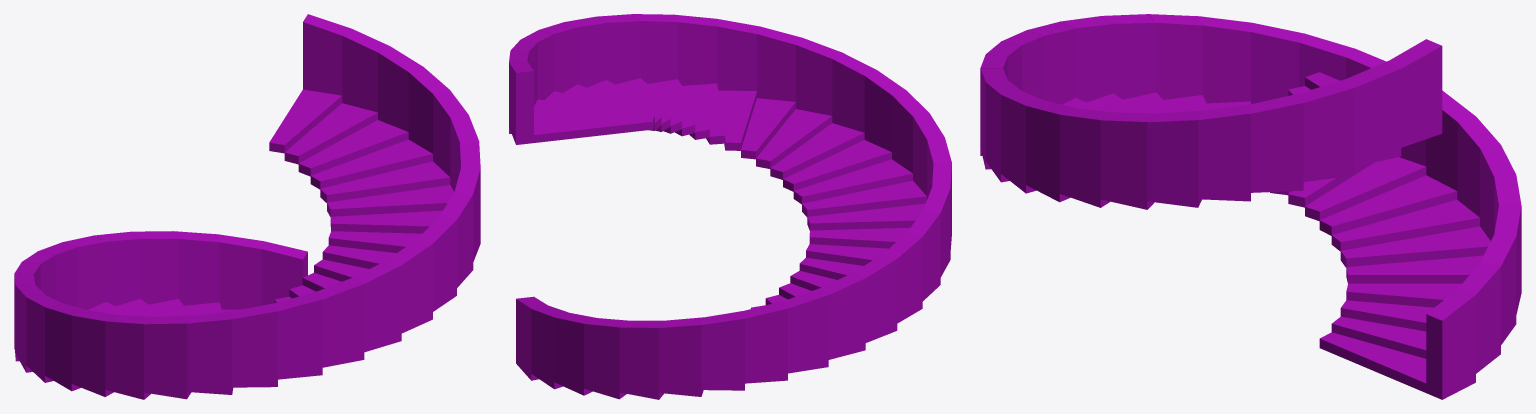
The model's file is Stairs.glb.
The picture shows the model from 3 angles, left to right: view 1: azimuth 30°, elevation 25°; view 2: azimuth 150°, elevation 25°; view 3: azimuth 270°, elevation 25°; orthographic projection. The views are drawn at different scales.
Visible parts, largest first — view 1: Circle; view 2: Circle; view 3: Circle.
Part boxes in pixels (left/top/right/bottom): Circle: left=14, top=14, right=480, bottom=399; Circle: left=509, top=14, right=951, bottom=399; Circle: left=980, top=14, right=1521, bottom=399.
Size of the model in its own units: 2 by 1.44 by 2.
1 material, 1 textured.
